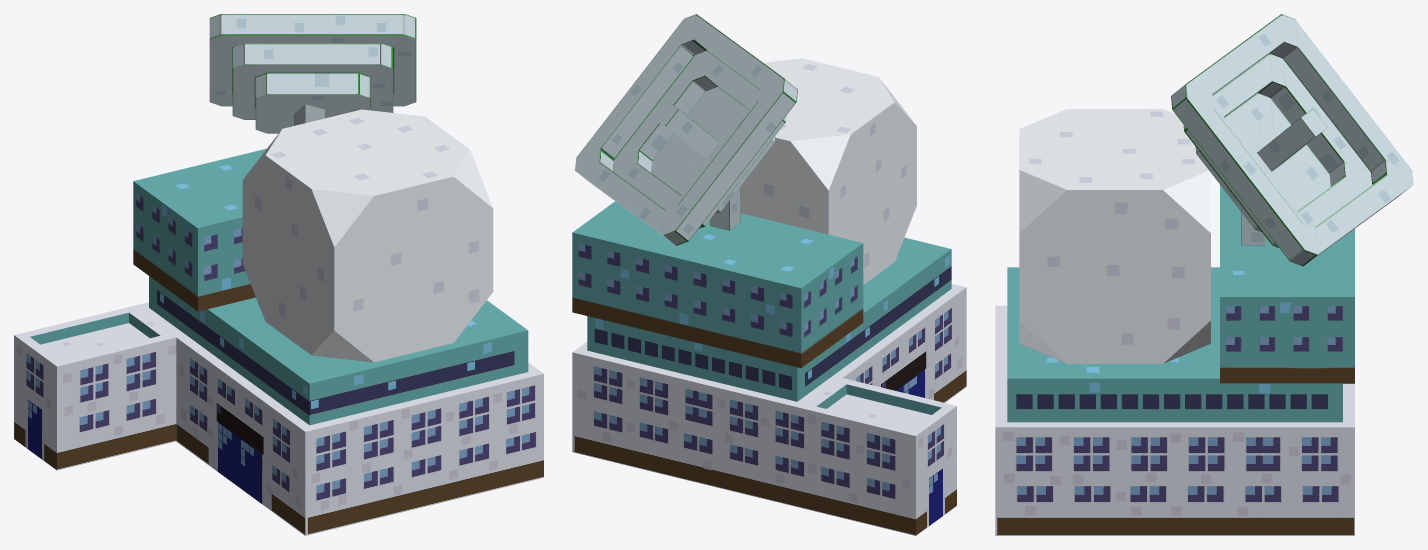
Rendered from science-satelite-staion.FBX.
3 views of the same model, side by side, from view 1: azimuth 30°, elevation 25°; view 2: azimuth 150°, elevation 25°; view 3: azimuth 270°, elevation 25° (orthographic). The views are drawn at different scales.
Parts seen in each view (by area): view 1: Box020, Object002; view 2: Box020, Object002; view 3: Box020, Object002.
Boxes of the visible parts, x1,y1,x2,y2 form: Box020: (14,109,543,535); Object002: (209,14,416,133); Box020: (572,58,966,535); Object002: (575,14,797,245); Box020: (995,109,1354,535); Object002: (1171,14,1413,266).
Size of the model in its own units: 571 by 590 by 523.
